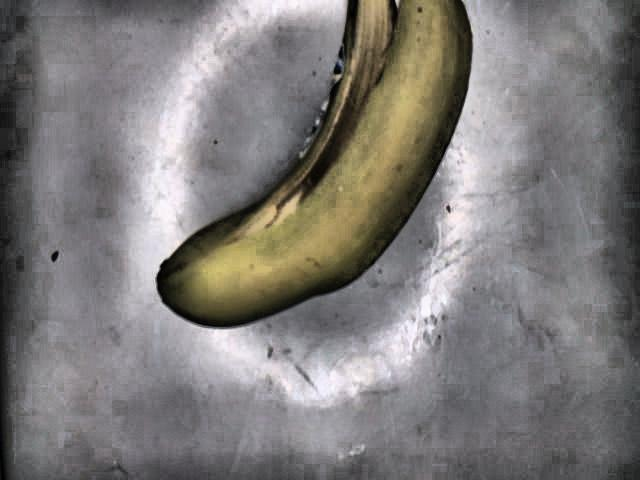Almennt: (157, 0, 473, 327)
